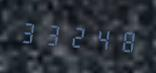eight: (114, 23, 137, 58)
four: (90, 21, 113, 56)
three: (18, 14, 41, 49), (42, 16, 65, 51)
two: (66, 19, 89, 53)
